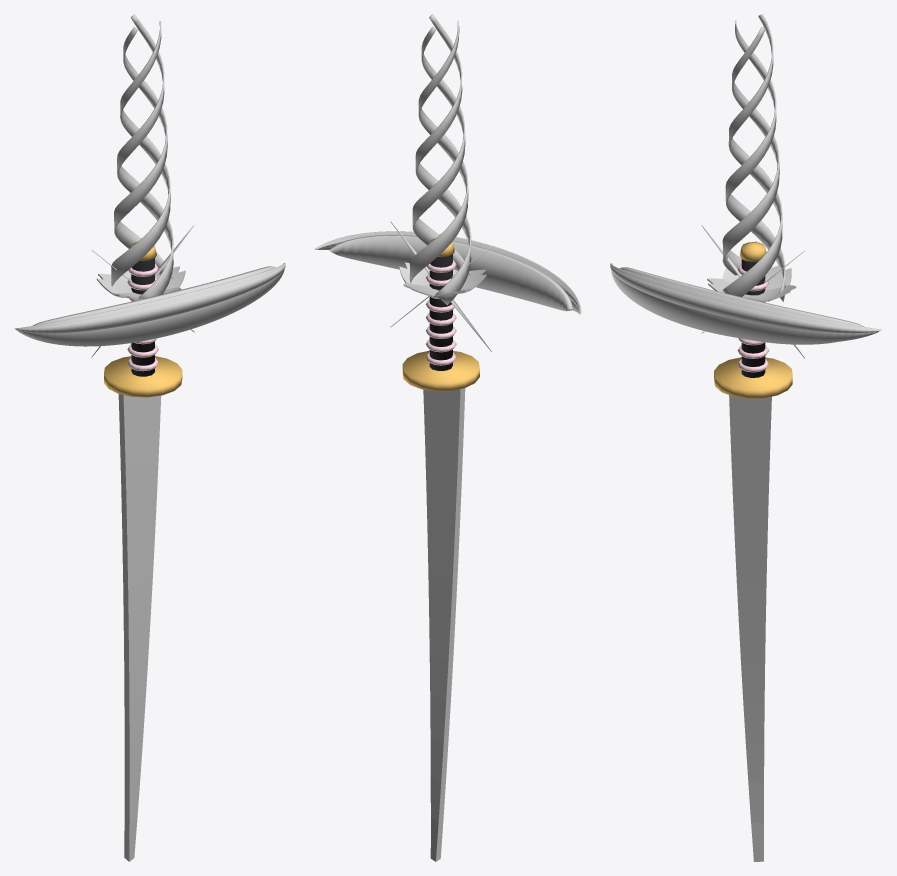
Rendered from AzusaFX.glb.
3 renders of one model, left to right at view 1: azimuth 30°, elevation 25°; view 2: azimuth 150°, elevation 25°; view 3: azimuth 330°, elevation 25°, orthographic. The views are drawn at different scales.
Visible parts, largest first — view 1: SpiritBlade__Glow_1, BloomPillar__Glow_1, SlashAura__Glow_1, SlashCore__Glow_1, SpiritBlade__Gold_1, Crescent__Glow_1, SpiritBlade__Black_1, BloomFlower__Glow_1, SpiritBlade__Petal_1; view 2: SpiritBlade__Glow_1, BloomPillar__Glow_1, Crescent__Glow_1, SpiritBlade__Gold_1, SpiritBlade__Black_1, SpiritBlade__Petal_1, SlashAura__Glow_1, BloomFlower__Glow_1; view 3: SpiritBlade__Glow_1, BloomPillar__Glow_1, SlashAura__Glow_1, SlashCore__Glow_1, SpiritBlade__Gold_1, Crescent__Glow_1, BloomFlower__Glow_1, SpiritBlade__Black_1, SpiritBlade__Petal_1.
Boxes of the visible parts, x1,y1,x2,y2 form: SpiritBlade__Glow_1: [118, 394, 161, 861]; BloomPillar__Glow_1: [111, 14, 173, 298]; SlashAura__Glow_1: [15, 263, 284, 346]; SlashCore__Glow_1: [14, 263, 285, 333]; SpiritBlade__Gold_1: [104, 242, 182, 397]; Crescent__Glow_1: [32, 266, 275, 325]; SpiritBlade__Black_1: [131, 258, 154, 376]; BloomFlower__Glow_1: [96, 266, 185, 299]; SpiritBlade__Petal_1: [127, 263, 158, 371]; SpiritBlade__Glow_1: [423, 388, 465, 861]; BloomPillar__Glow_1: [409, 14, 471, 305]; Crescent__Glow_1: [329, 235, 572, 311]; SpiritBlade__Gold_1: [402, 238, 479, 391]; SpiritBlade__Black_1: [429, 254, 452, 370]; SpiritBlade__Petal_1: [425, 260, 456, 365]; SlashAura__Glow_1: [315, 231, 580, 314]; BloomFlower__Glow_1: [399, 262, 486, 297]; SpiritBlade__Glow_1: [729, 395, 771, 861]; BloomPillar__Glow_1: [722, 14, 785, 302]; SlashAura__Glow_1: [611, 263, 881, 343]; SlashCore__Glow_1: [610, 263, 882, 333]; SpiritBlade__Gold_1: [714, 242, 792, 398]; Crescent__Glow_1: [620, 267, 864, 344]; BloomFlower__Glow_1: [707, 266, 796, 302]; SpiritBlade__Black_1: [741, 259, 765, 377]; SpiritBlade__Petal_1: [737, 264, 769, 372].
Bounding box in the file's own units: 31.65 × 94.17 × 11.71.
